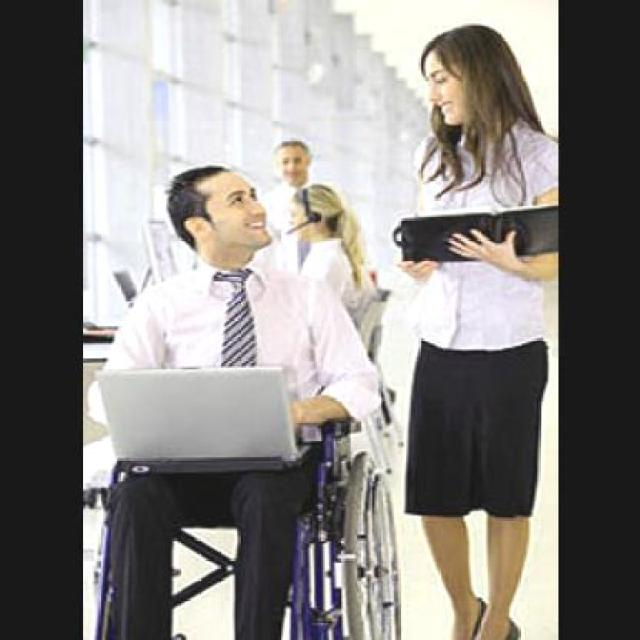wheelchairs: (91, 293, 412, 640)
